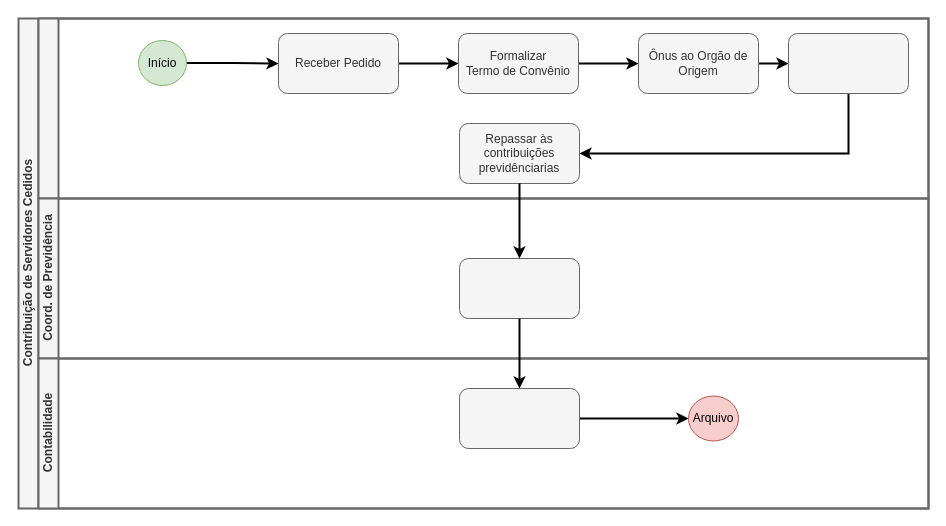
Some shapes in this 946 by 526 pixel diagram are drawn without their labels. The shapes that lost their labels are listed below. From the top down, each one's box as (x1, y1, x2, y2) in pixels, then its label:
(788, 32, 908, 94): Retêm a Contribuição Previdênciaria
(37, 17, 929, 199): SRH
(458, 258, 580, 318): Recebe às contribuições do Ente Federativo
(458, 388, 580, 448): Realizar registro contabil
